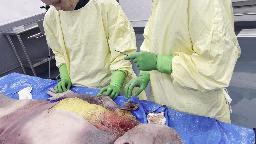scalpel: (114, 50, 130, 57)
